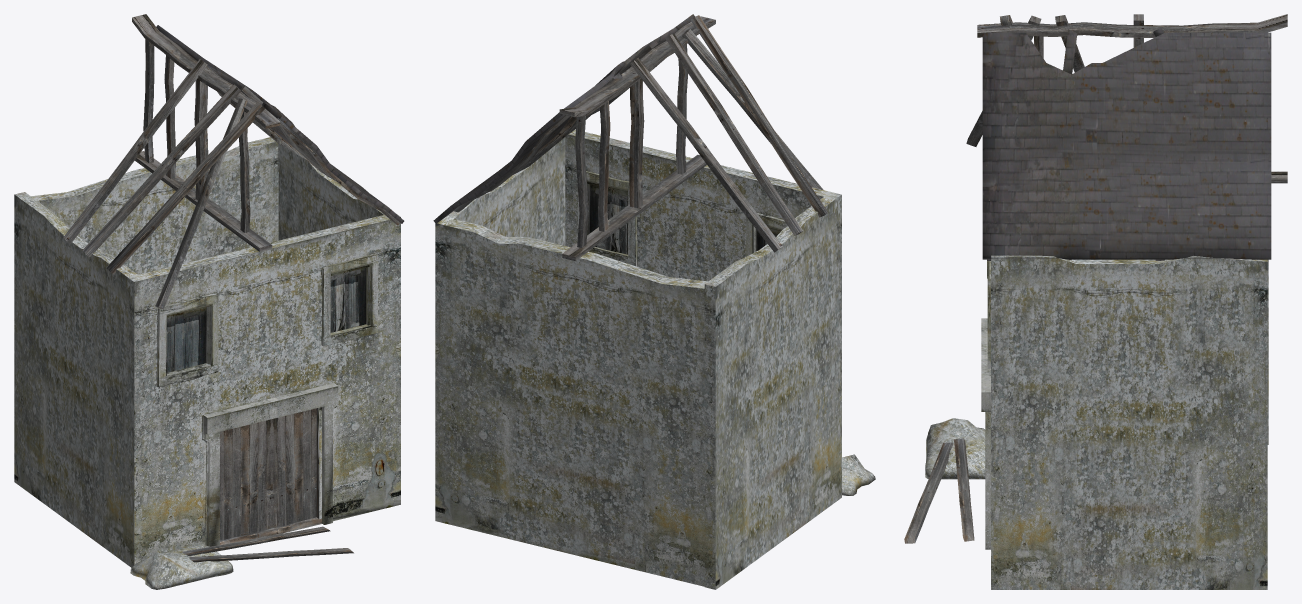
Rendered from war_torn7.obj.
3 renders of one model, left to right at view 1: azimuth 30°, elevation 25°; view 2: azimuth 150°, elevation 25°; view 3: azimuth 270°, elevation 25°, orthographic. The views are drawn at different scales.
Visible parts, largest first — view 1: worn_torn7; view 2: worn_torn7; view 3: worn_torn7.
Part boxes in pixels (x1,y1,x2,y2): worn_torn7: (14,14,404,589); worn_torn7: (433,14,875,589); worn_torn7: (904,14,1287,589).
Bounding box in the file's own units: 200 × 301 × 209.
Materials: 1 (1 with a texture image).
